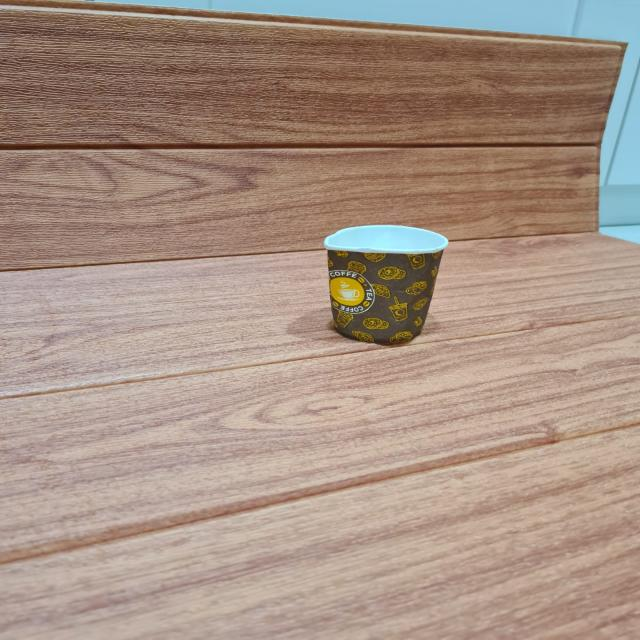cups: (318, 222, 452, 344)
